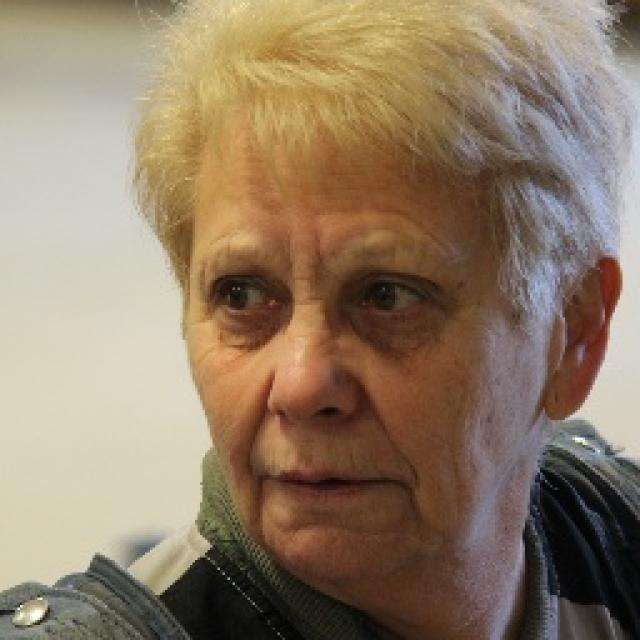earlobe: (540, 249, 622, 419)
